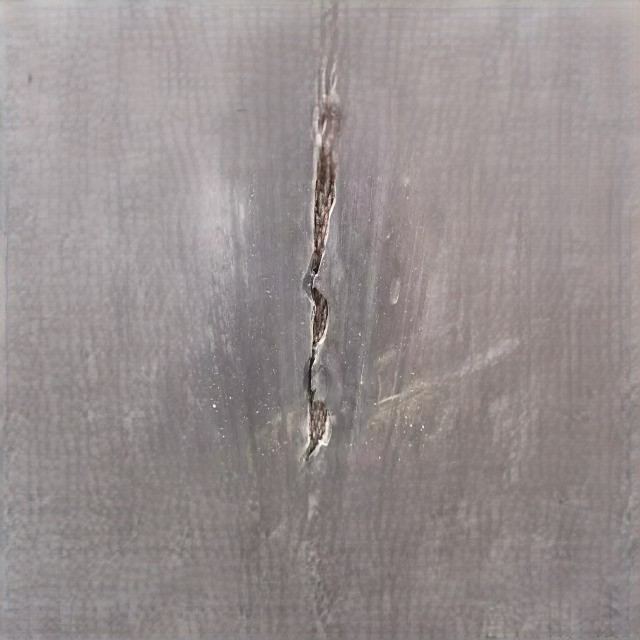Tear: (294, 172, 338, 470)
